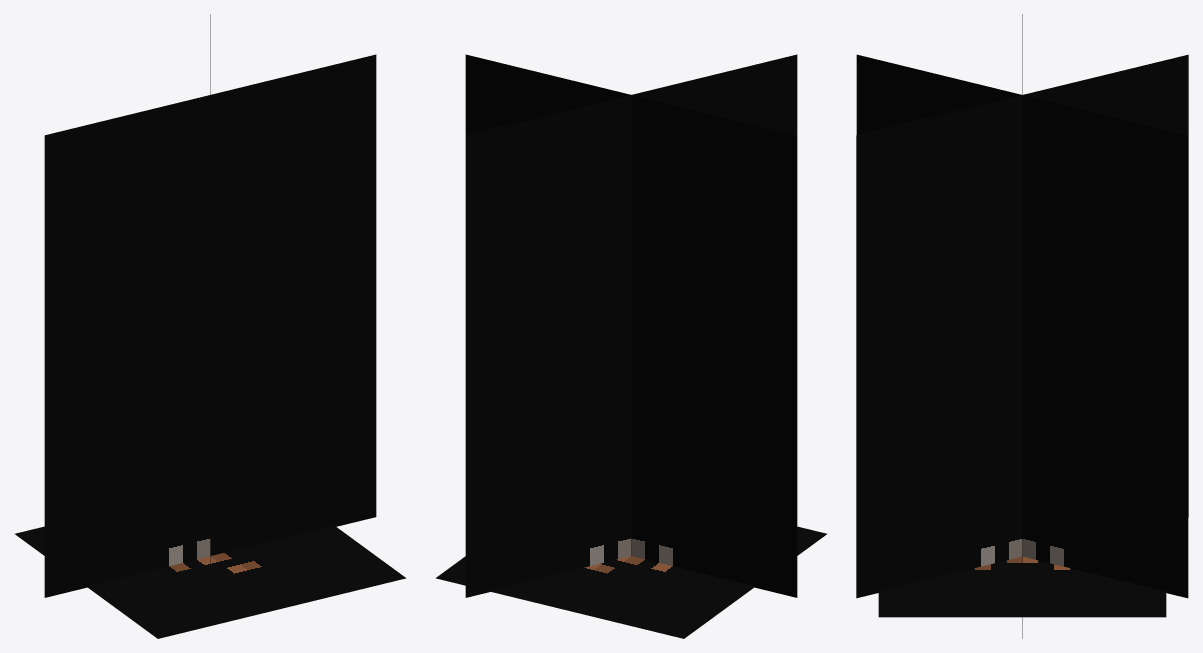
Rendered from cotton_seed.gltf.
3 renders of one model, left to right at view 1: azimuth 30°, elevation 25°; view 2: azimuth 150°, elevation 25°; view 3: azimuth 270°, elevation 25°, orthographic.
Visible parts, largest first — view 1: Plane.218; view 2: Plane.218; view 3: Plane.218.
Part boxes in pixels (x1,y1,x2,y2): Plane.218: (15,14,405,638); Plane.218: (436,54,826,638); Plane.218: (856,14,1188,638).
Bounding box in the file's own units: 2.4 × 3.2 × 2.08.
2 materials, 2 textured.
